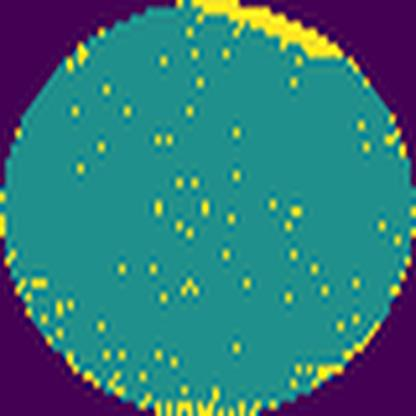Edge-Loc: (180, 0, 362, 68)
